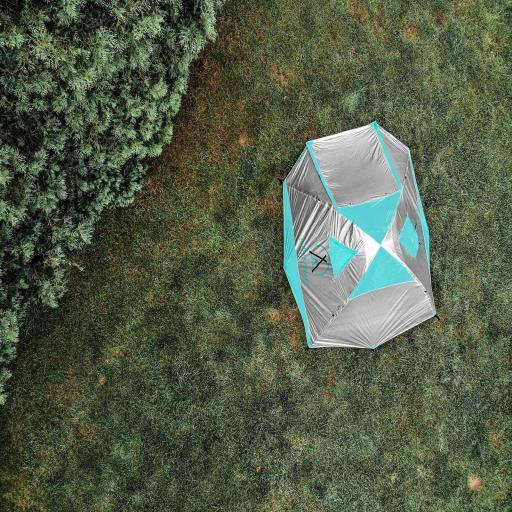Tent: (276, 123, 442, 347)
